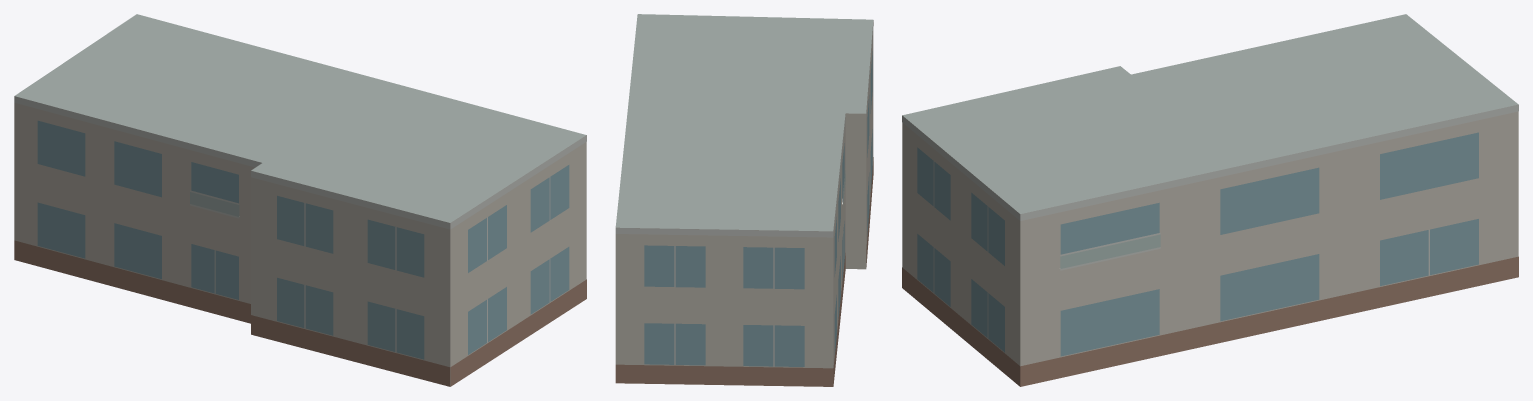
The model's file is survey-upis-32891708.glb.
3 renders of one model, left to right at view 1: azimuth 30°, elevation 25°; view 2: azimuth 150°, elevation 25°; view 3: azimuth 270°, elevation 25°, orthographic. The views are drawn at different scales.
Parts seen in each view (by area): view 1: survey-upis-32891708.tmp; view 2: survey-upis-32891708.tmp; view 3: survey-upis-32891708.tmp.
Part boxes in pixels (box(x1,y1,x2,y2)): survey-upis-32891708.tmp: box(14, 14, 586, 386); survey-upis-32891708.tmp: box(615, 14, 873, 386); survey-upis-32891708.tmp: box(902, 14, 1518, 386).
Size of the model in its own units: 15.18 by 6.1 by 19.75.
